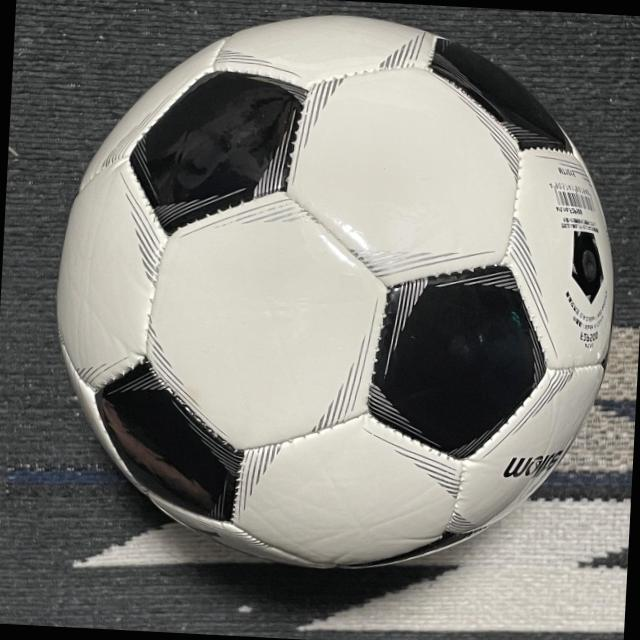Soccer Ball: (44, 0, 626, 586)
